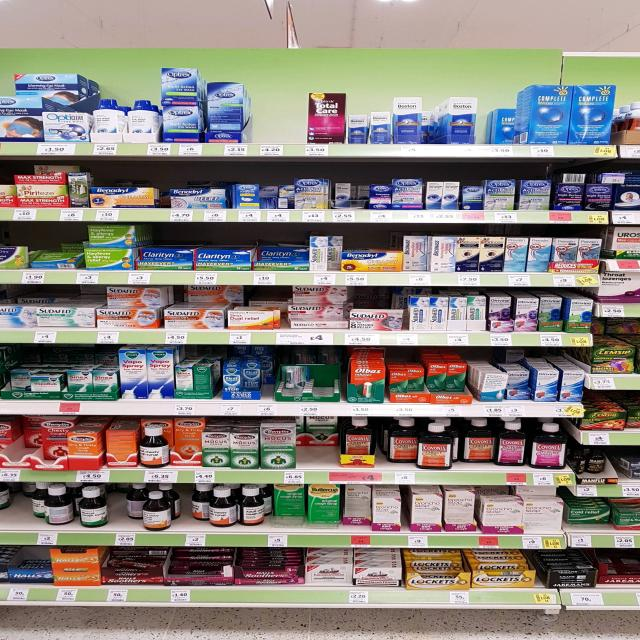void: (243, 83, 276, 156), (278, 83, 308, 155)
